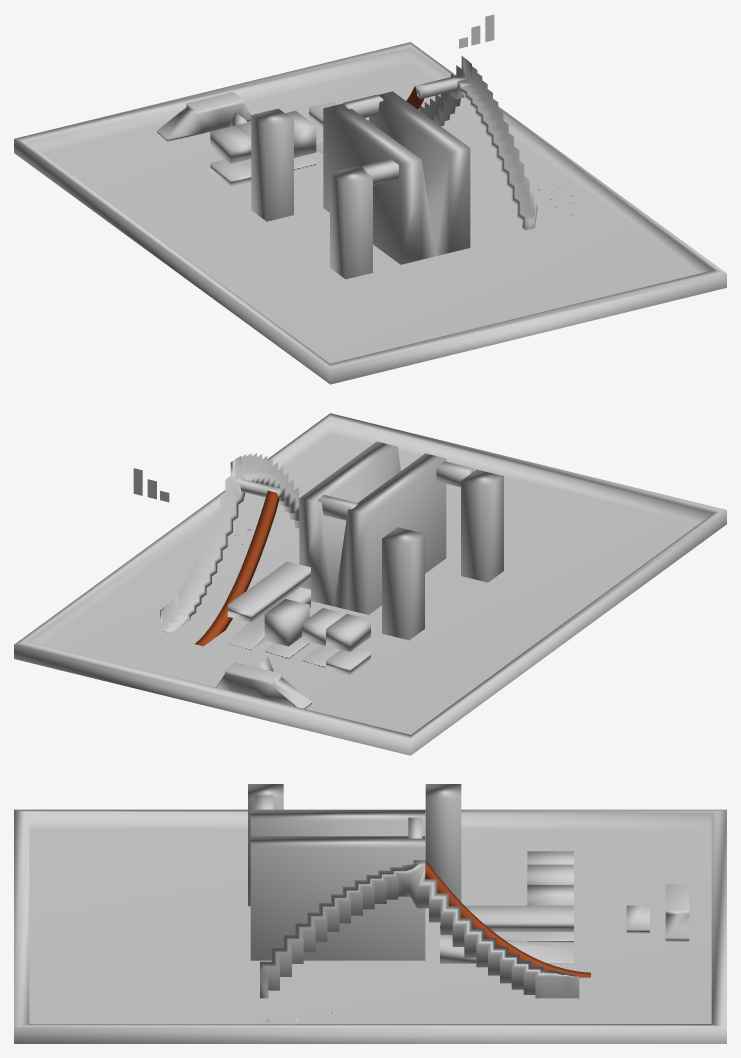
The model's file is CharacterControllerTestTerrain.fbx.
3 views of the same model, one above another, from view 1: azimuth 30°, elevation 25°; view 2: azimuth 150°, elevation 25°; view 3: azimuth 270°, elevation 25° (orthographic). The views are drawn at different scales.
Parts seen in each view (by area): view 1: Mesh; view 2: Mesh; view 3: Mesh.
Boxes of the visible parts, <box> form: Mesh: <box>14,14,726,384</box>; Mesh: <box>14,413,726,755</box>; Mesh: <box>14,784,726,1043</box>.
Bounding box in the file's own units: 4366 × 1370 × 6030.
